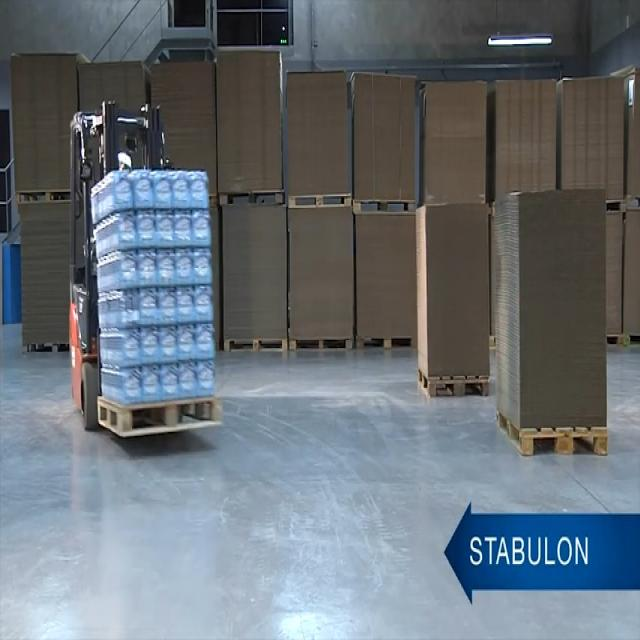Chariot elevateur: (67, 101, 168, 435)
Palette: (94, 389, 230, 448), (494, 405, 611, 459), (413, 362, 495, 407), (284, 182, 352, 215), (214, 182, 284, 210), (216, 335, 290, 361), (289, 327, 355, 356), (350, 194, 423, 218), (355, 332, 418, 356), (12, 184, 71, 205), (22, 335, 67, 361), (604, 190, 640, 213), (602, 331, 639, 349)
